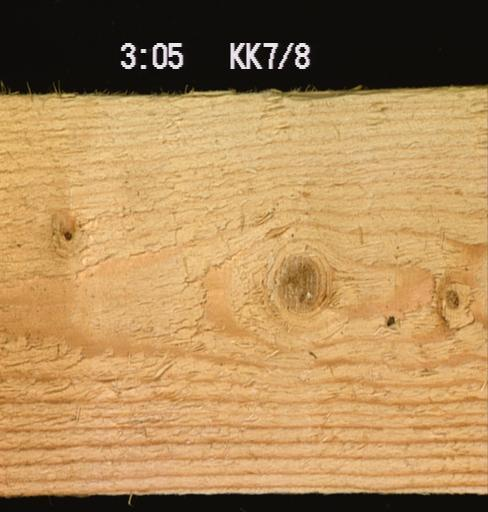small_knot: (52, 220, 82, 246), (379, 305, 401, 334)
sound_knot: (270, 246, 330, 313), (431, 277, 479, 333)
split: (182, 89, 290, 103)
